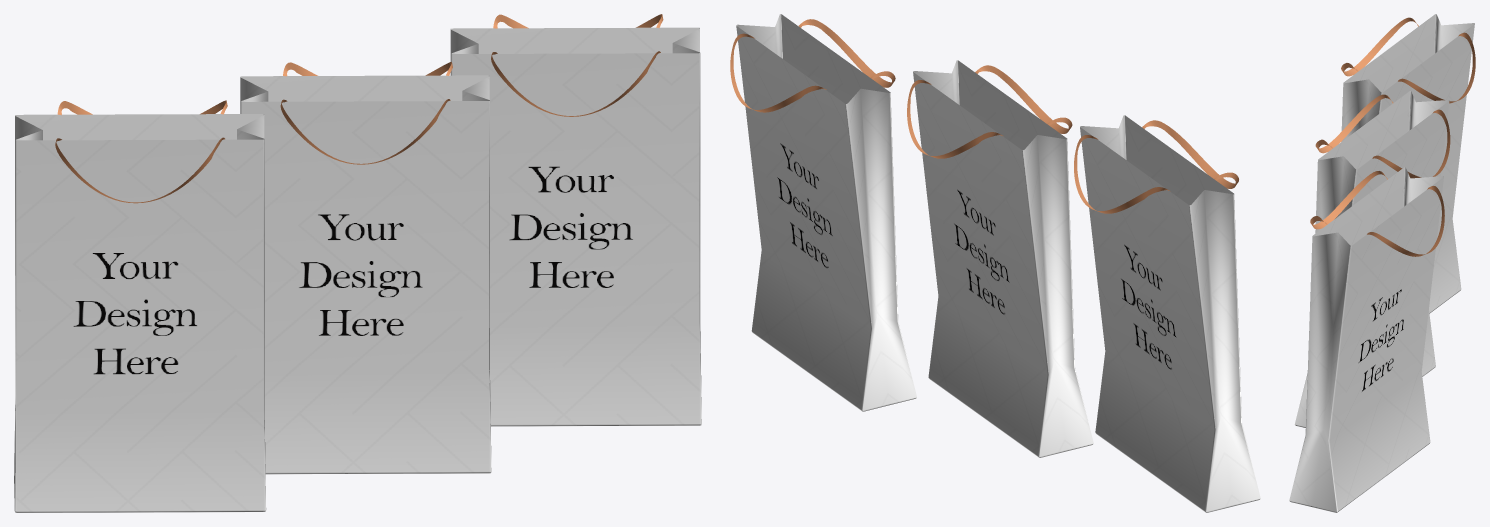
The model's file is Paper Bag A-5.glb.
3 renders of one model, left to right at view 1: azimuth 30°, elevation 25°; view 2: azimuth 150°, elevation 25°; view 3: azimuth 270°, elevation 25°, orthographic. The views are drawn at different scales.
Visible parts, largest first — view 1: Object_2.003, Object_2.001, Object_2.005, Object_2.006, Object_2.002, Object_2.004; view 2: Object_2.005, Object_2.003, Object_2.001, Object_2.004, Object_2.002, Object_2.006; view 3: Object_2.005, Object_2.003, Object_2.001, Object_2.006, Object_2.004, Object_2.002.
Part boxes in pixels (x1=…): Object_2.003: x1=14, y1=114, x2=266, y2=512; Object_2.001: x1=240, y1=75, x2=491, y2=474; Object_2.005: x1=450, y1=27, x2=701, y2=426; Object_2.006: x1=491, y1=14, x2=663, y2=116; Object_2.002: x1=280, y1=62, x2=452, y2=164; Object_2.004: x1=55, y1=100, x2=227, y2=203; Object_2.005: x1=736, y1=14, x2=916, y2=411; Object_2.003: x1=1080, y1=115, x2=1260, y2=512; Object_2.001: x1=913, y1=60, x2=1093, y2=457; Object_2.004: x1=1074, y1=120, x2=1238, y2=213; Object_2.002: x1=907, y1=65, x2=1072, y2=158; Object_2.006: x1=730, y1=19, x2=895, y2=112; Object_2.005: x1=1289, y1=167, x2=1443, y2=512; Object_2.003: x1=1341, y1=14, x2=1474, y2=313; Object_2.001: x1=1294, y1=91, x2=1449, y2=427; Object_2.006: x1=1310, y1=171, x2=1444, y2=256; Object_2.004: x1=1341, y1=17, x2=1475, y2=103; Object_2.002: x1=1315, y1=94, x2=1450, y2=178.
Size of the model in its own units: 10.55 by 5.73 by 3.5.
2 materials, 1 textured.
